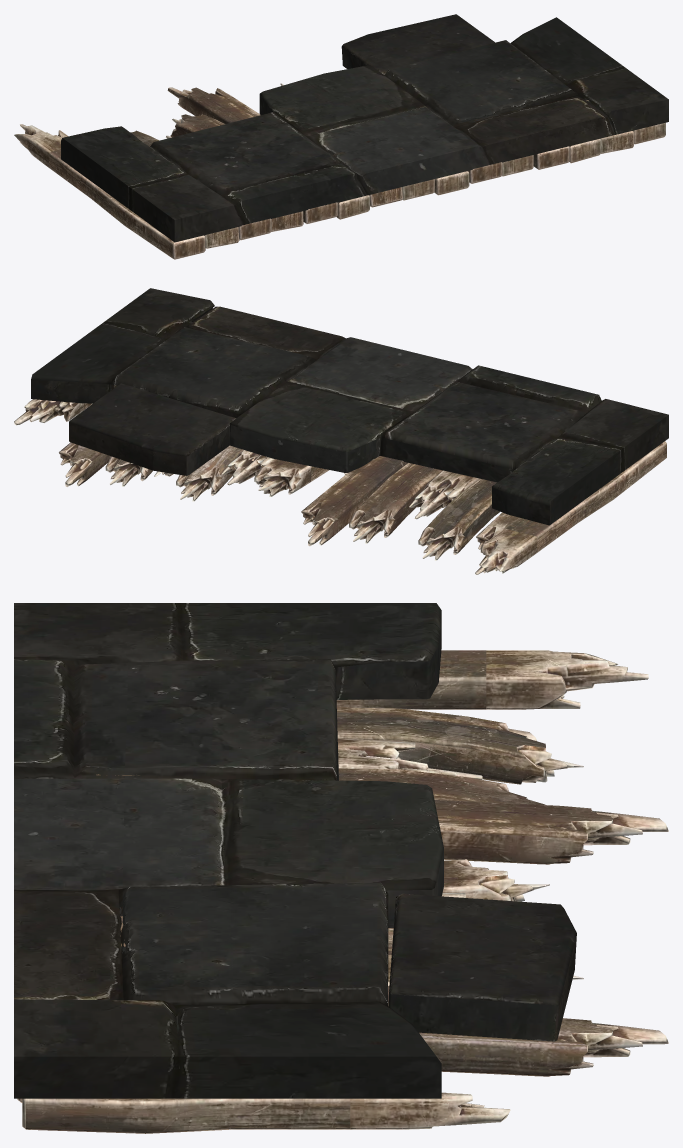
3 views of the same model, one above another, from view 1: azimuth 30°, elevation 25°; view 2: azimuth 150°, elevation 25°; view 3: azimuth 270°, elevation 25° (orthographic). The views are drawn at different scales.
Visible parts, largest first — view 1: SM_SaradominTemple_Floor_Dmg_4x4_01_v1_LOD0; view 2: SM_SaradominTemple_Floor_Dmg_4x4_01_v1_LOD0; view 3: SM_SaradominTemple_Floor_Dmg_4x4_01_v1_LOD0.
Part boxes in pixels (x1,y1,x2,y2): SM_SaradominTemple_Floor_Dmg_4x4_01_v1_LOD0: (14, 14, 668, 259); SM_SaradominTemple_Floor_Dmg_4x4_01_v1_LOD0: (14, 288, 668, 574); SM_SaradominTemple_Floor_Dmg_4x4_01_v1_LOD0: (14, 603, 668, 1133).
Size of the model in its own units: 4 by 0.5242 by 2.44.
2 materials, 2 textured.
